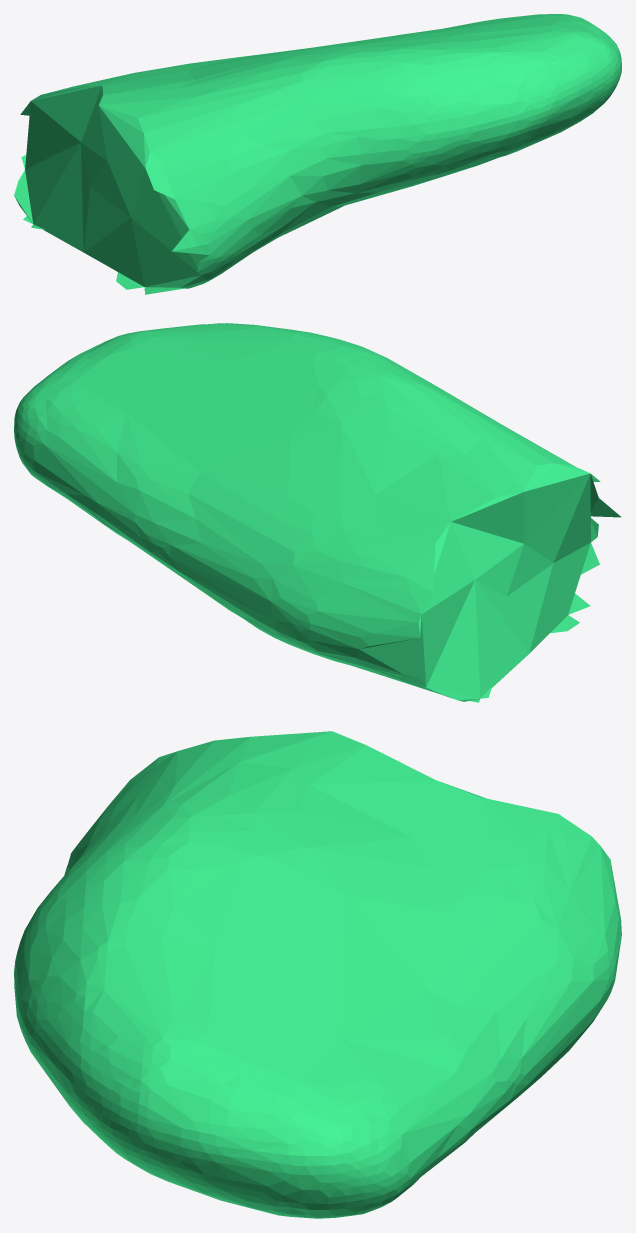
Rendered from Right_thalamus2_1.obj.
The picture shows the model from 3 angles, top to bottom: view 1: azimuth 30°, elevation 25°; view 2: azimuth 150°, elevation 25°; view 3: azimuth 270°, elevation 25°; orthographic projection. The views are drawn at different scales.
Visible parts, largest first — view 1: obj0; view 2: obj0; view 3: obj0.
Part boxes in pixels (<box>): obj0: <box>14,14,621,294</box>; obj0: <box>14,323,621,702</box>; obj0: <box>14,731,621,1218</box>.
Size of the model in its own units: 3.62 by 1.3 by 2.4.
Materials: 1 (1 with a texture image).
